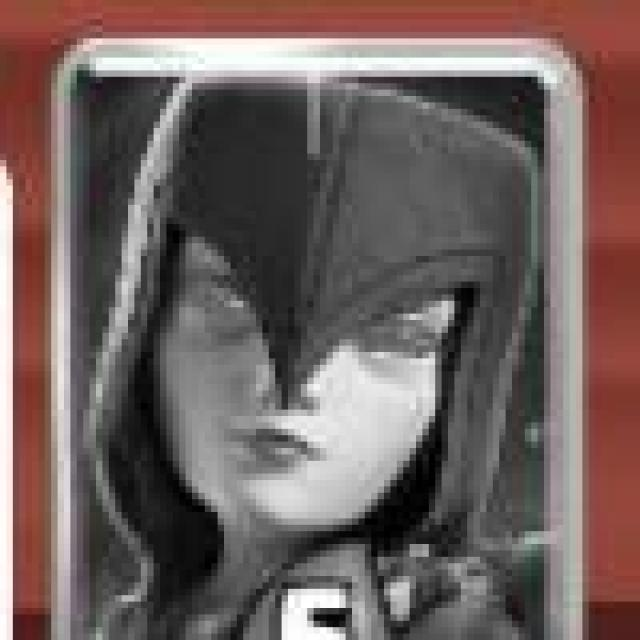Witch: (59, 39, 589, 640)
